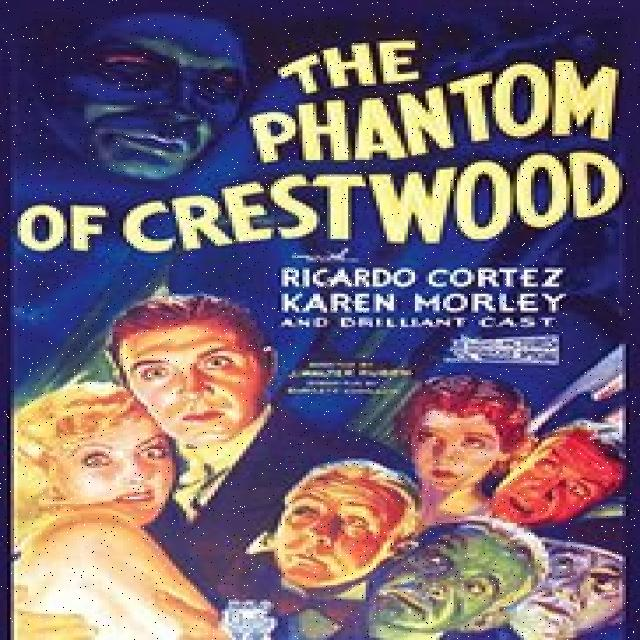movie-judul: (19, 40, 623, 256)
picture: (2, 223, 640, 639)
